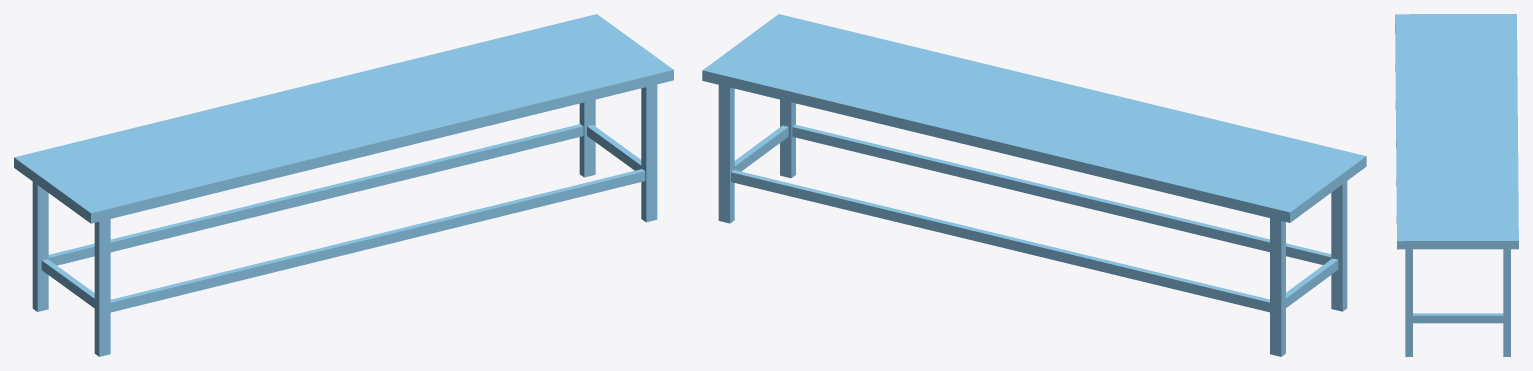
File: Big table.FBX
3 renders of one model, left to right at view 1: azimuth 30°, elevation 25°; view 2: azimuth 150°, elevation 25°; view 3: azimuth 270°, elevation 25°, orthographic. The views are drawn at different scales.
Parts seen in each view (by area): view 1: Big table; view 2: Big table; view 3: Big table.
Boxes of the visible parts, x1,y1,x2,y2 form: Big table: (14, 14, 673, 356); Big table: (702, 14, 1366, 356); Big table: (1395, 14, 1518, 356).
Bounding box in the file's own units: 3.65 × 0.9004 × 0.841.
